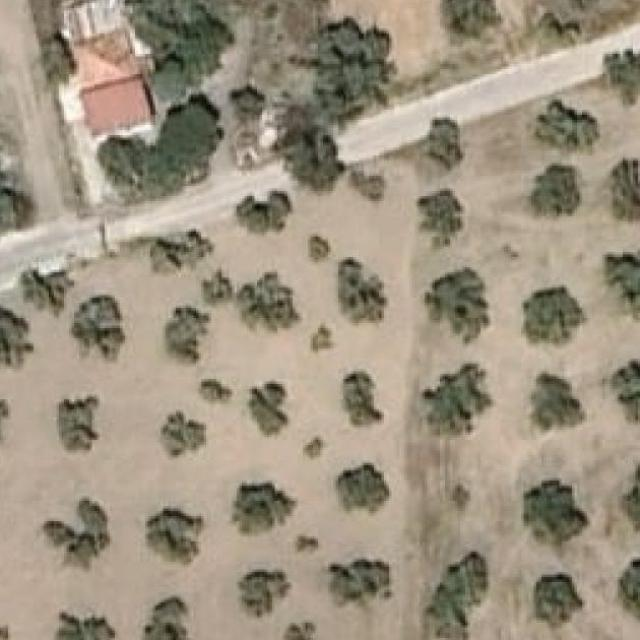Tree: (100, 92, 224, 187), (318, 23, 384, 118), (419, 551, 488, 640), (424, 268, 490, 346), (44, 499, 110, 570), (422, 364, 488, 434), (521, 284, 587, 354), (524, 481, 588, 546), (526, 100, 600, 156), (316, 560, 392, 610), (232, 481, 298, 536), (145, 508, 206, 567), (71, 296, 120, 366), (529, 372, 585, 433), (582, 49, 640, 104), (338, 260, 387, 324), (333, 460, 389, 516), (286, 133, 342, 189), (236, 567, 292, 621), (416, 191, 466, 250), (437, 0, 501, 46), (534, 572, 585, 628), (240, 272, 290, 328), (599, 358, 640, 426), (232, 191, 292, 237), (247, 384, 298, 438), (22, 269, 78, 318), (338, 371, 384, 430), (604, 250, 640, 324), (140, 594, 194, 640), (160, 409, 210, 458), (531, 166, 580, 214), (57, 397, 97, 453), (423, 118, 463, 172), (166, 306, 204, 360), (156, 234, 204, 272), (54, 612, 118, 640), (612, 160, 640, 219), (0, 308, 28, 367), (619, 455, 640, 533), (349, 166, 389, 206), (617, 559, 640, 623), (199, 377, 235, 407), (199, 272, 230, 303), (546, 0, 612, 13), (311, 321, 336, 355), (284, 619, 317, 640), (308, 234, 331, 262), (301, 438, 326, 461), (296, 533, 321, 552)
